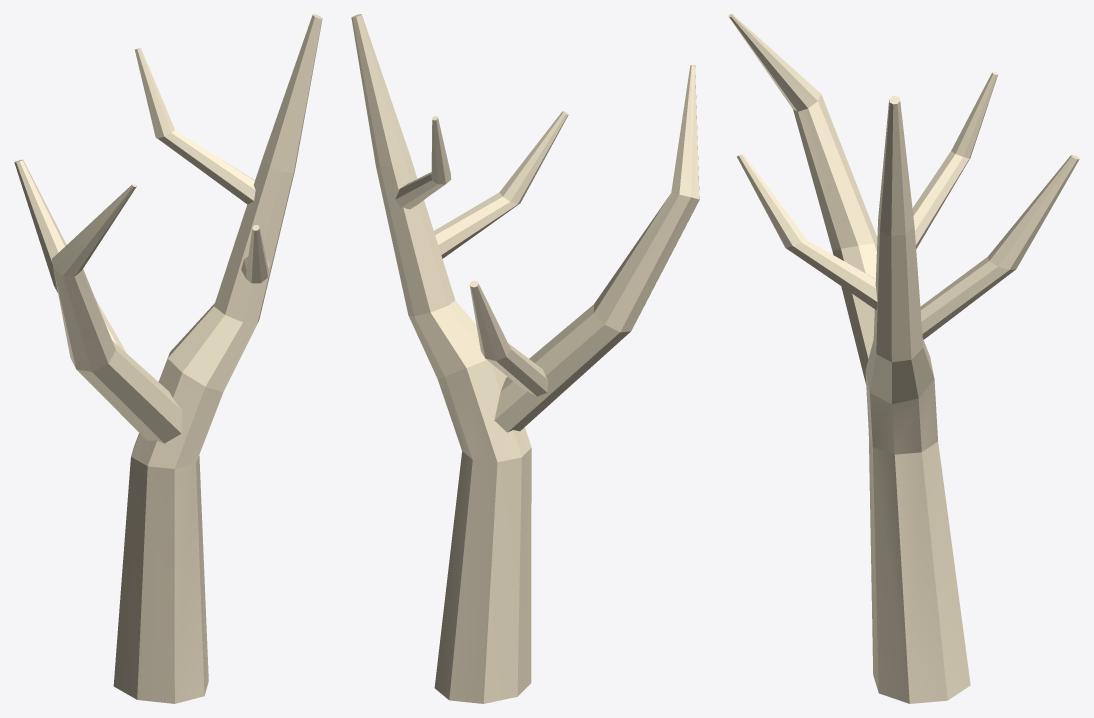
Rendered from TreeTrunk_22.fbx.
3 renders of one model, left to right at view 1: azimuth 30°, elevation 25°; view 2: azimuth 150°, elevation 25°; view 3: azimuth 270°, elevation 25°, orthographic. The views are drawn at different scales.
Parts seen in each view (by area): view 1: TreeTrunk_22; view 2: TreeTrunk_22; view 3: TreeTrunk_22.
Part boxes in pixels (x1,y1,x2,y2): TreeTrunk_22: (14,14,322,703); TreeTrunk_22: (351,14,699,703); TreeTrunk_22: (728,14,1079,703).
Size of the model in its own units: 220 by 436 by 212.
